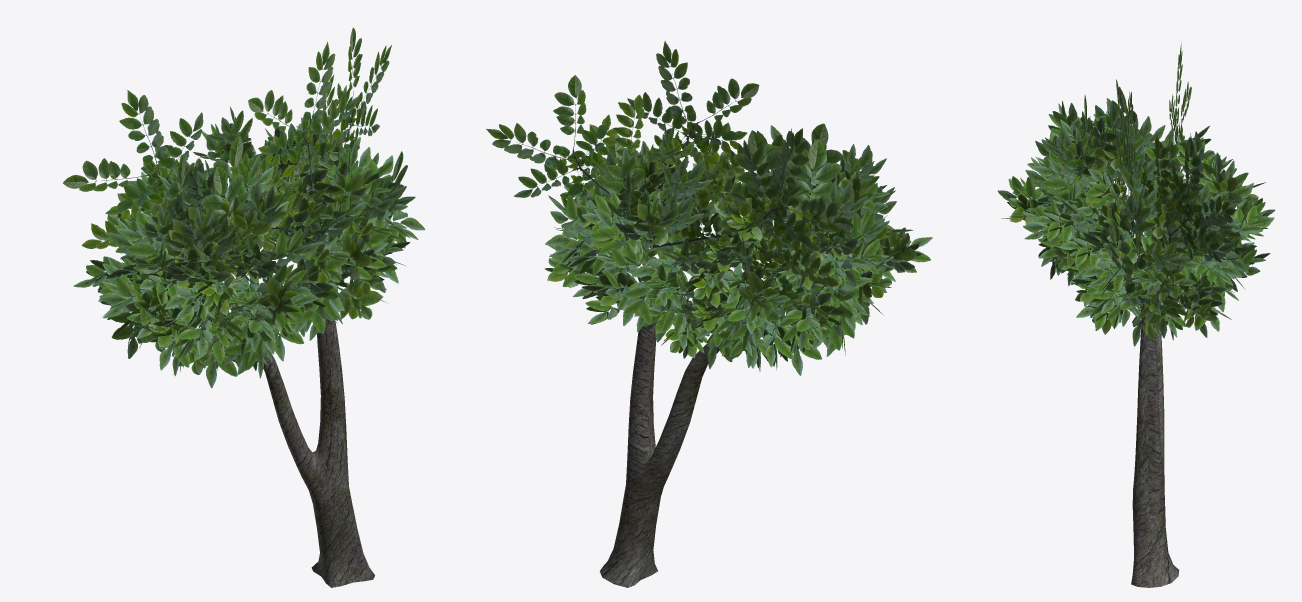
The model's file is tree2.FBX.
3 views of the same model, side by side, from view 1: azimuth 30°, elevation 25°; view 2: azimuth 150°, elevation 25°; view 3: azimuth 270°, elevation 25° (orthographic). The views are drawn at different scales.
Visible parts, largest first — view 1: Object232, tree2uv; view 2: Object232, tree2uv; view 3: Object232, tree2uv.
Part boxes in pixels (box(x1,y1,x2,y2)): Object232: box(63, 27, 425, 388); tree2uv: box(263, 318, 374, 587); Object232: box(486, 41, 932, 375); tree2uv: box(599, 323, 719, 587); Object232: box(997, 41, 1274, 346); tree2uv: box(1131, 290, 1179, 587).
Size of the model in its own units: 758 by 1006 by 558.
